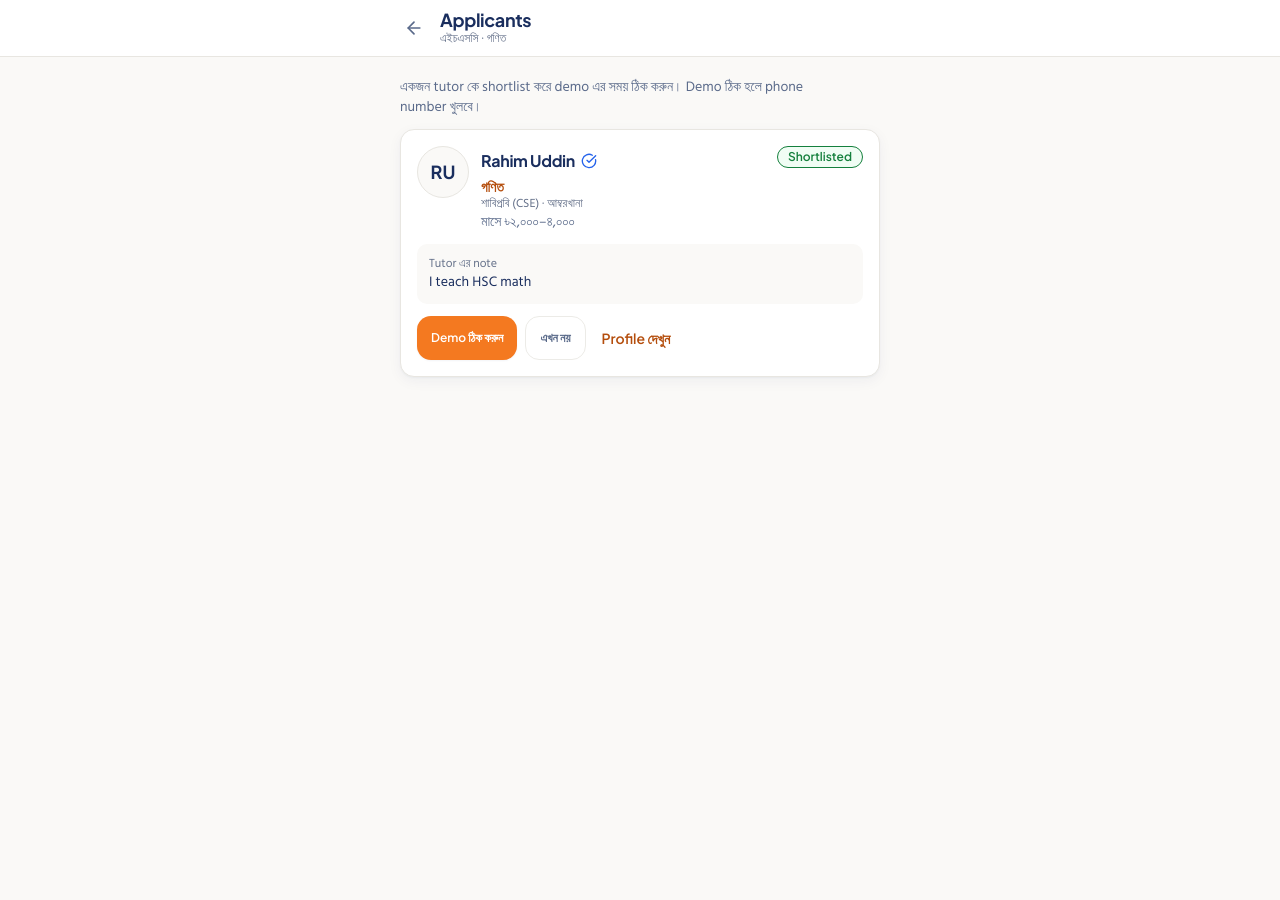
Scenario: Applicants page › keeps the dialog open and explains a time the server refuses
Click the button "Demo ঠিক করুন".
click(467, 338)  # box [417, 316, 517, 360]
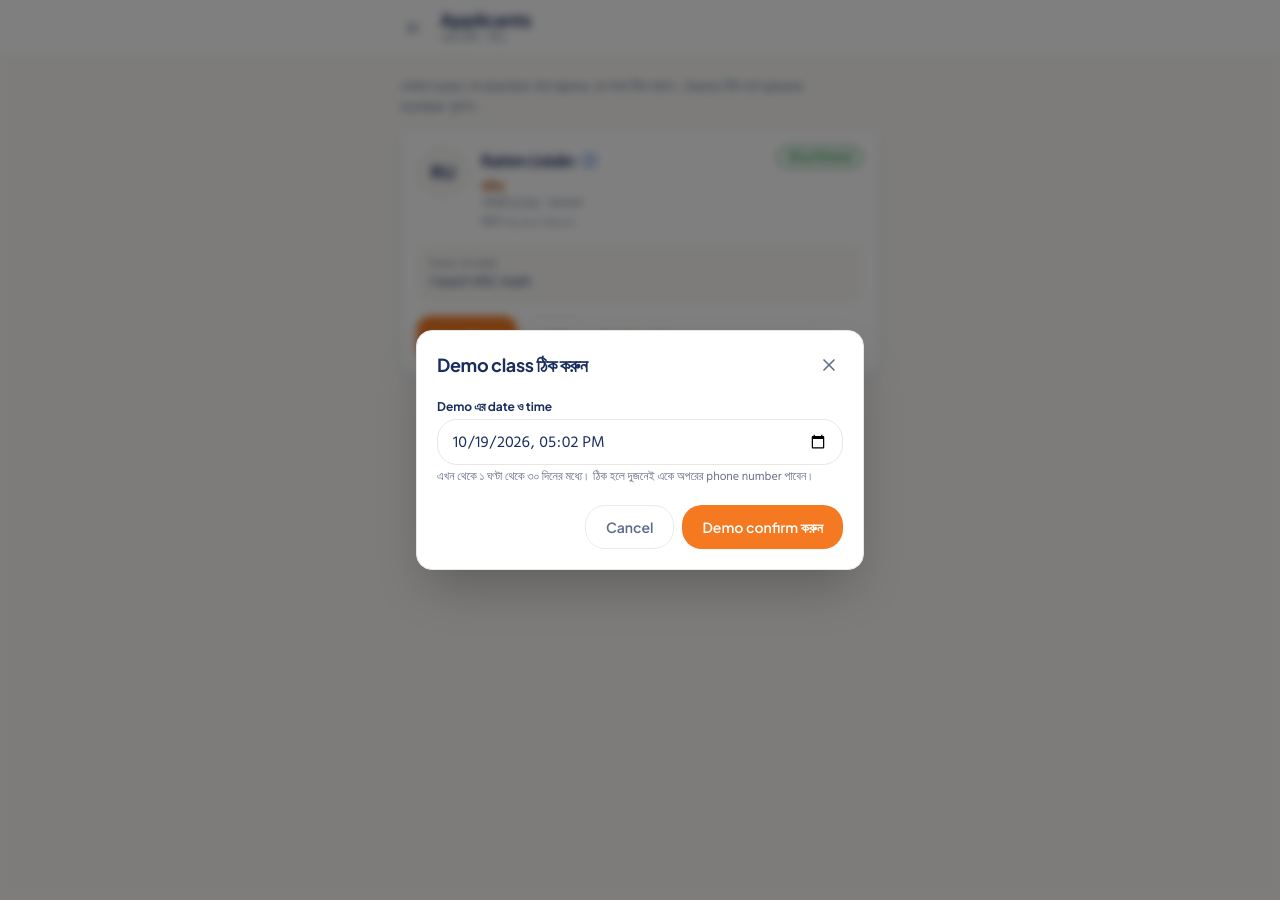
Click the button "Demo confirm করুন".
click(763, 527)  # box [682, 505, 843, 549]
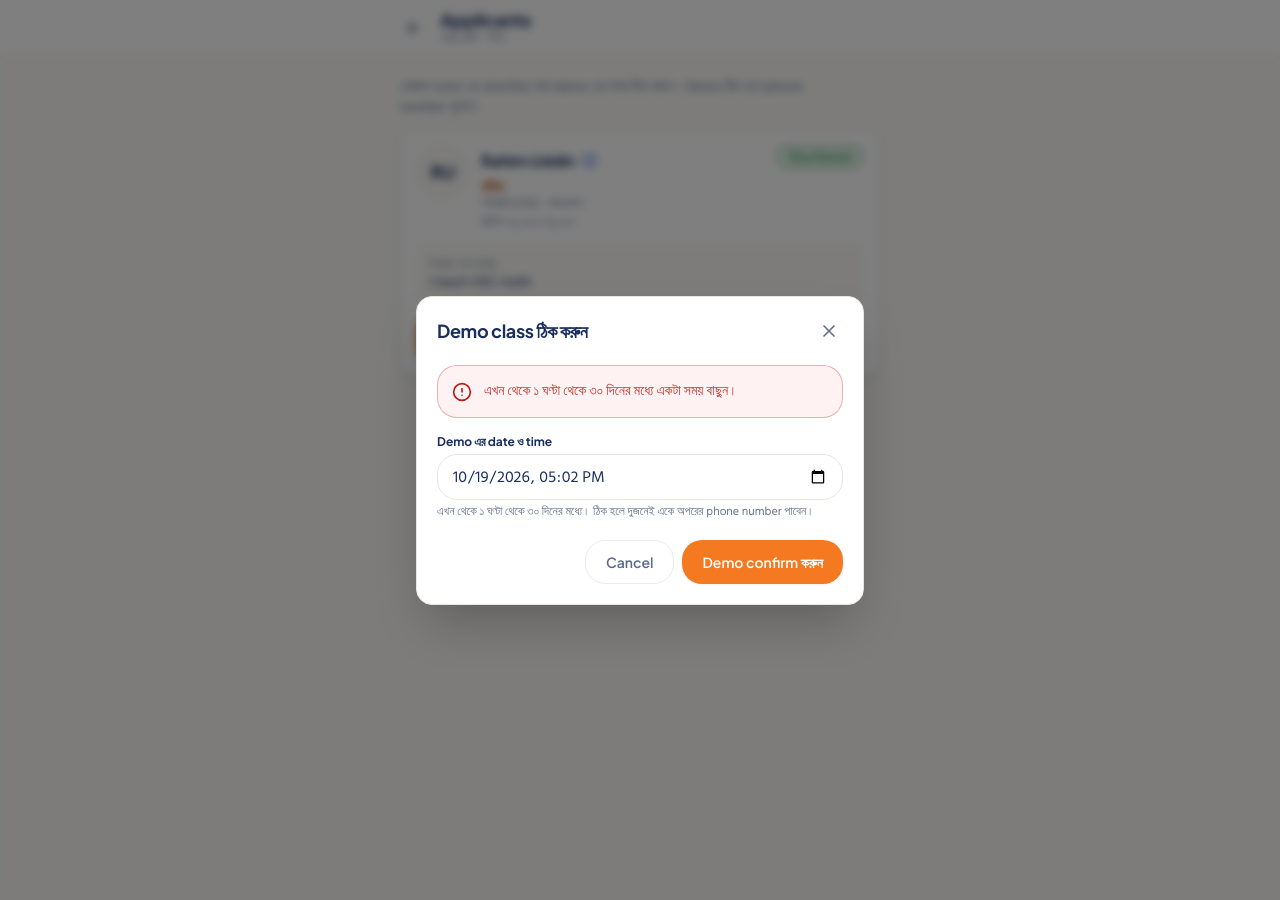
Expected: the dialog is shown, [416, 296, 864, 604]
Expected: the text "এখন থেকে ১ ঘণ্টা থেকে ৩০ দিনের মধ্যে একটা সময় বাছুন।" is shown, [484, 379, 738, 402]
